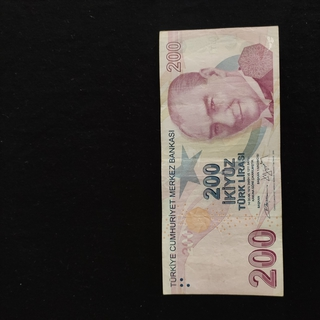200TLFront: (158, 25, 285, 297)
